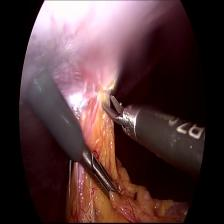Grasper: (80, 144, 121, 200)
Scissors: (101, 90, 139, 140)
